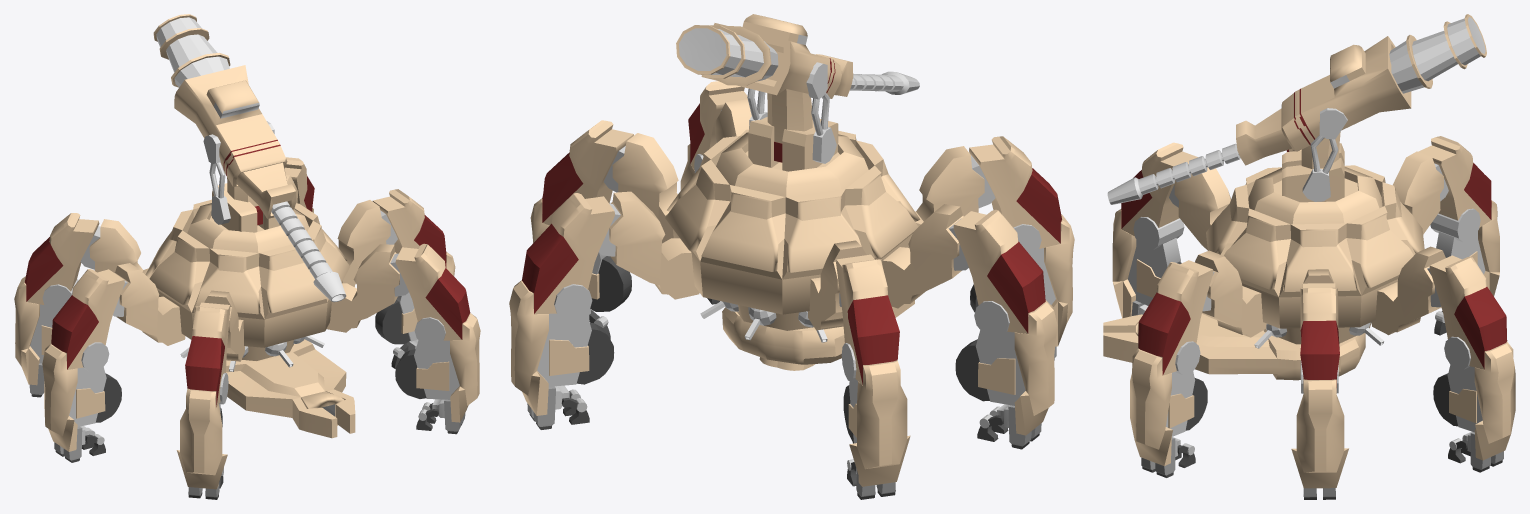
The model's file is Spider_mech_low.fbx.
3 views of the same model, side by side, from view 1: azimuth 30°, elevation 25°; view 2: azimuth 150°, elevation 25°; view 3: azimuth 270°, elevation 25° (orthographic). The views are drawn at different scales.
Parts seen in each view (by area): view 1: polySurface17, lASEr_GUN, buttom_gun, bottom_ring_gun; view 2: polySurface17, lASEr_GUN, buttom_gun, bottom_ring_gun; view 3: polySurface17, lASEr_GUN, buttom_gun, bottom_ring_gun.
Part boxes in pixels (x1=…): polySurface17: x1=14, y1=157, x2=480, y2=499; lASEr_GUN: x1=153, y1=14, x2=346, y2=302; buttom_gun: x1=226, y1=339, x2=355, y2=438; bottom_ring_gun: x1=180, y1=335, x2=324, y2=371; polySurface17: x1=509, y1=81, x2=1074, y2=499; lASEr_GUN: x1=676, y1=14, x2=919, y2=196; buttom_gun: x1=722, y1=300, x2=914, y2=370; bottom_ring_gun: x1=700, y1=301, x2=827, y2=342; polySurface17: x1=1112, y1=136, x2=1515, y2=499; lASEr_GUN: x1=1107, y1=14, x2=1486, y2=224; buttom_gun: x1=1103, y1=314, x2=1365, y2=380; bottom_ring_gun: x1=1254, y1=322, x2=1384, y2=348.
Size of the model in its own units: 3052 by 2454 by 2406.
